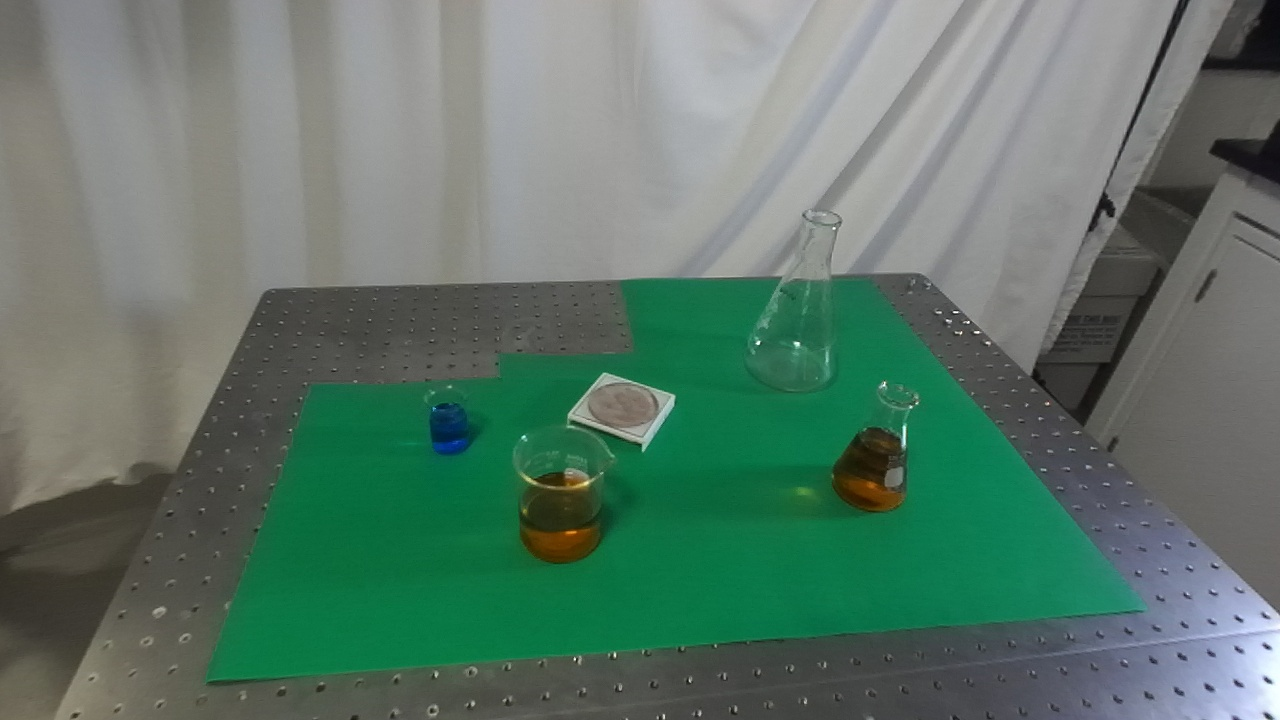glass: (739, 207, 844, 398), (507, 422, 619, 569), (825, 379, 922, 517), (423, 384, 471, 456)
plate: (561, 367, 678, 459)
